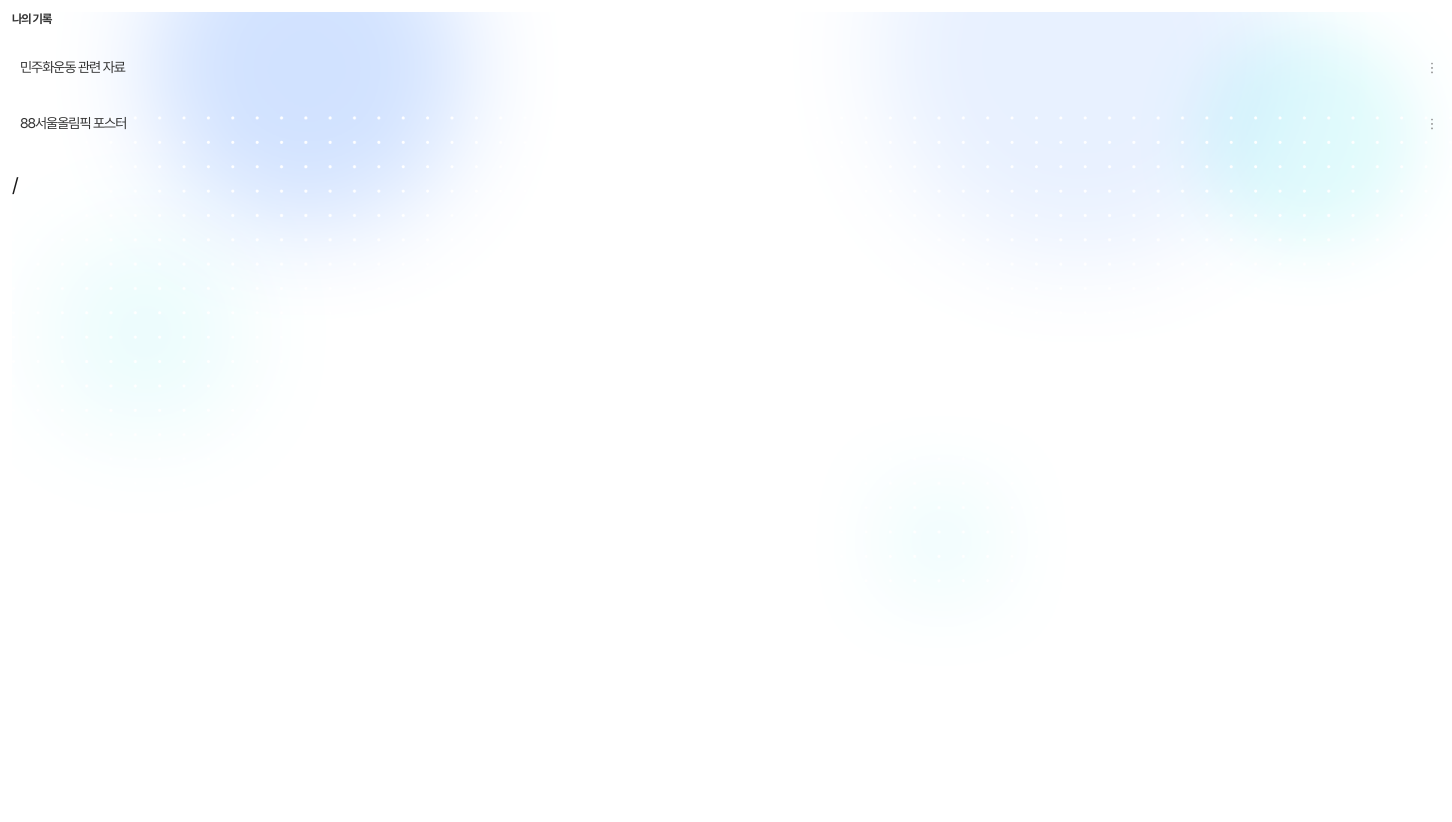
Scenario: 케밥: 클릭 전에는 메뉴가 없고, 클릭하면 저장/삭제 메뉴가 열린다
Expected: the text "민주화운동 관련 자료" is shown, 20,59 -> 125,75
Expected: the menu item "라이브러리 저장" is not shown
Click the 1st button named "더보기" at (1432, 68), box 1420,56 -> 1444,80
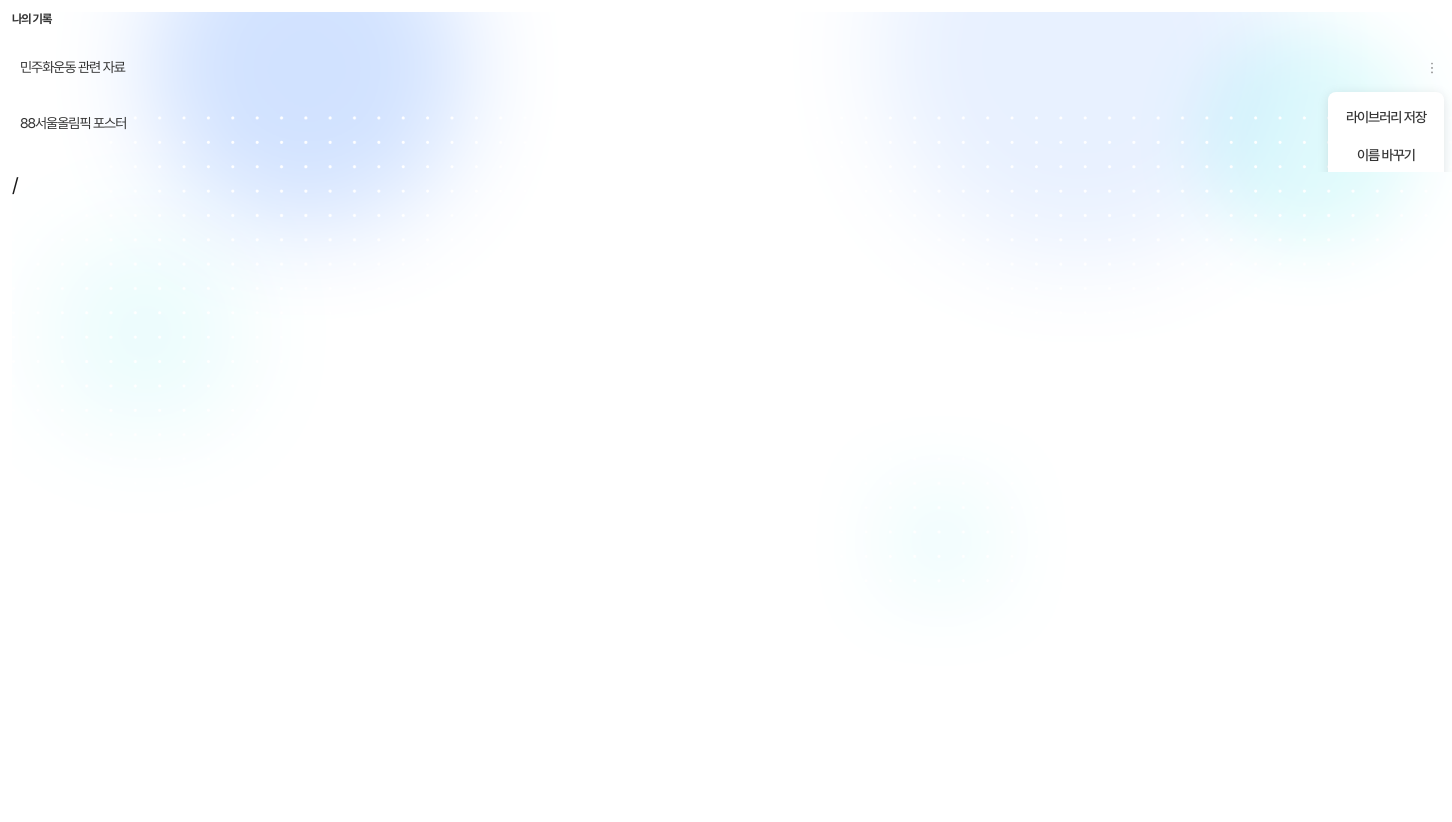
Expected: the menu item "라이브러리 저장" is shown, 1336,100 -> 1436,134
